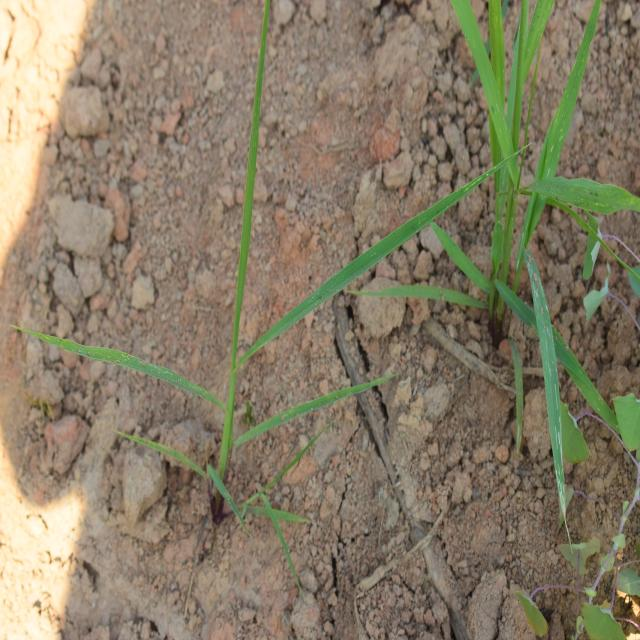green_foxtail: (89, 84, 384, 464), (427, 0, 602, 435)
